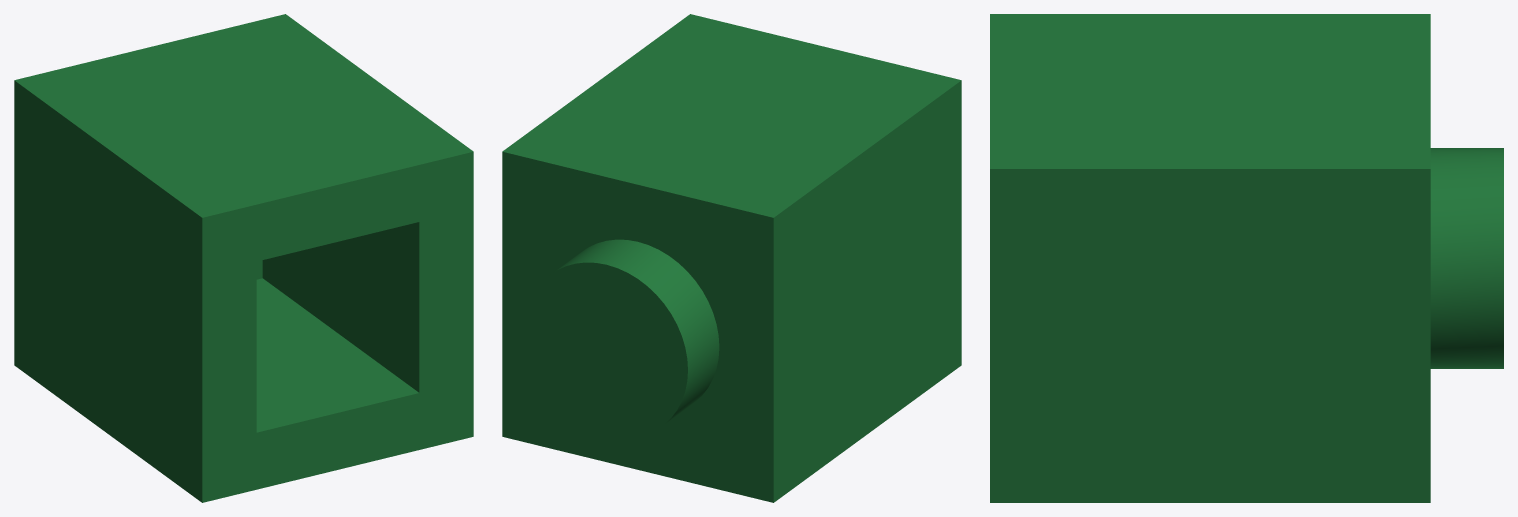
The model's file is pasto 1 oscuro.dae.
3 renders of one model, left to right at view 1: azimuth 30°, elevation 25°; view 2: azimuth 150°, elevation 25°; view 3: azimuth 270°, elevation 25°, orthographic. The views are drawn at different scales.
Parts seen in each view (by area): view 1: Inner-Node-UntitledModel_dot_io-0; view 2: Inner-Node-UntitledModel_dot_io-0; view 3: Inner-Node-UntitledModel_dot_io-0.
Part boxes in pixels (box(x1,y1,x2,y2)): Inner-Node-UntitledModel_dot_io-0: box(14, 14, 473, 502); Inner-Node-UntitledModel_dot_io-0: box(502, 14, 961, 502); Inner-Node-UntitledModel_dot_io-0: box(990, 14, 1503, 502).
Bounding box in the file's own units: 19.75 × 19.82 × 27.65.
